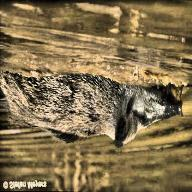boar: (2, 47, 186, 155)
